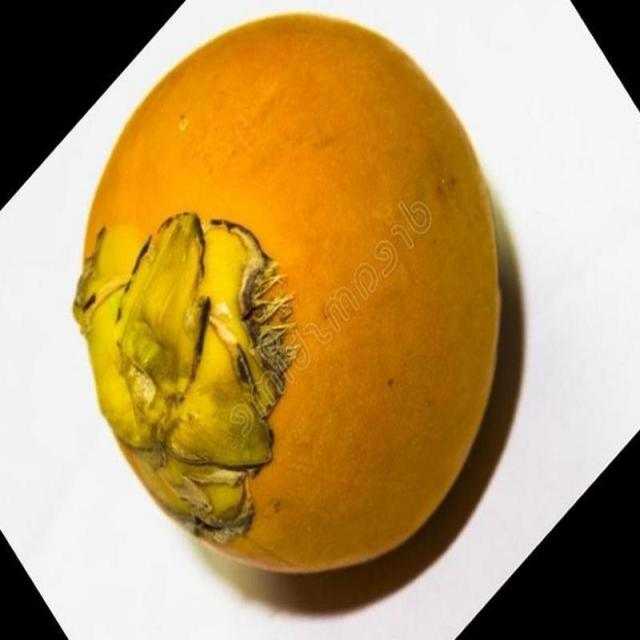good: (70, 13, 509, 580)
